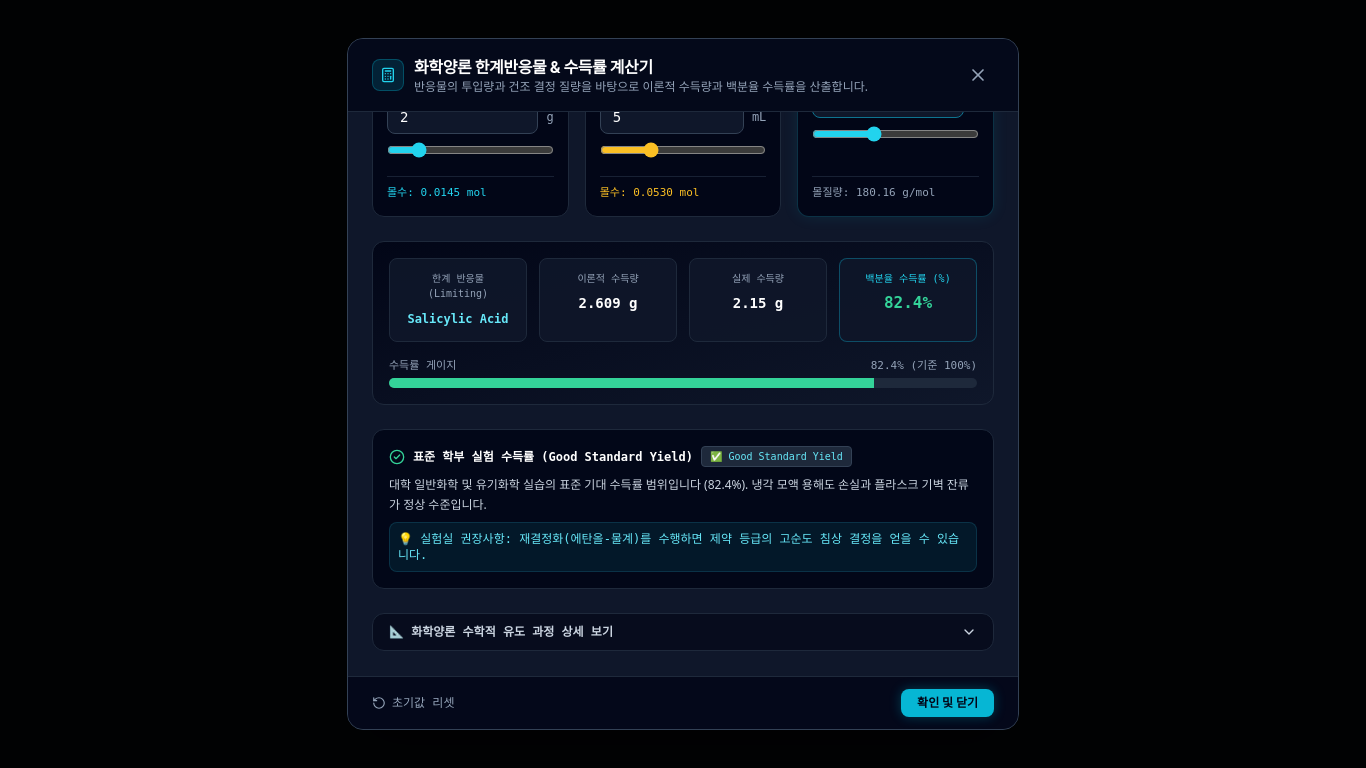
Test: Milestone 3: Educational Pedagogy & Stoichiometry Yield Calculator › 4. YieldCalculatorModal Component Interaction › toggles expandable KaTeX derivation panel
(page scrolled)
Check: the text "1. 살리실산(SA) 몰수 산출" is not shown
Click the button with test id "toggle-derivation-btn". click: (501, 632)
box: x1=373 y1=614 x2=993 y2=650
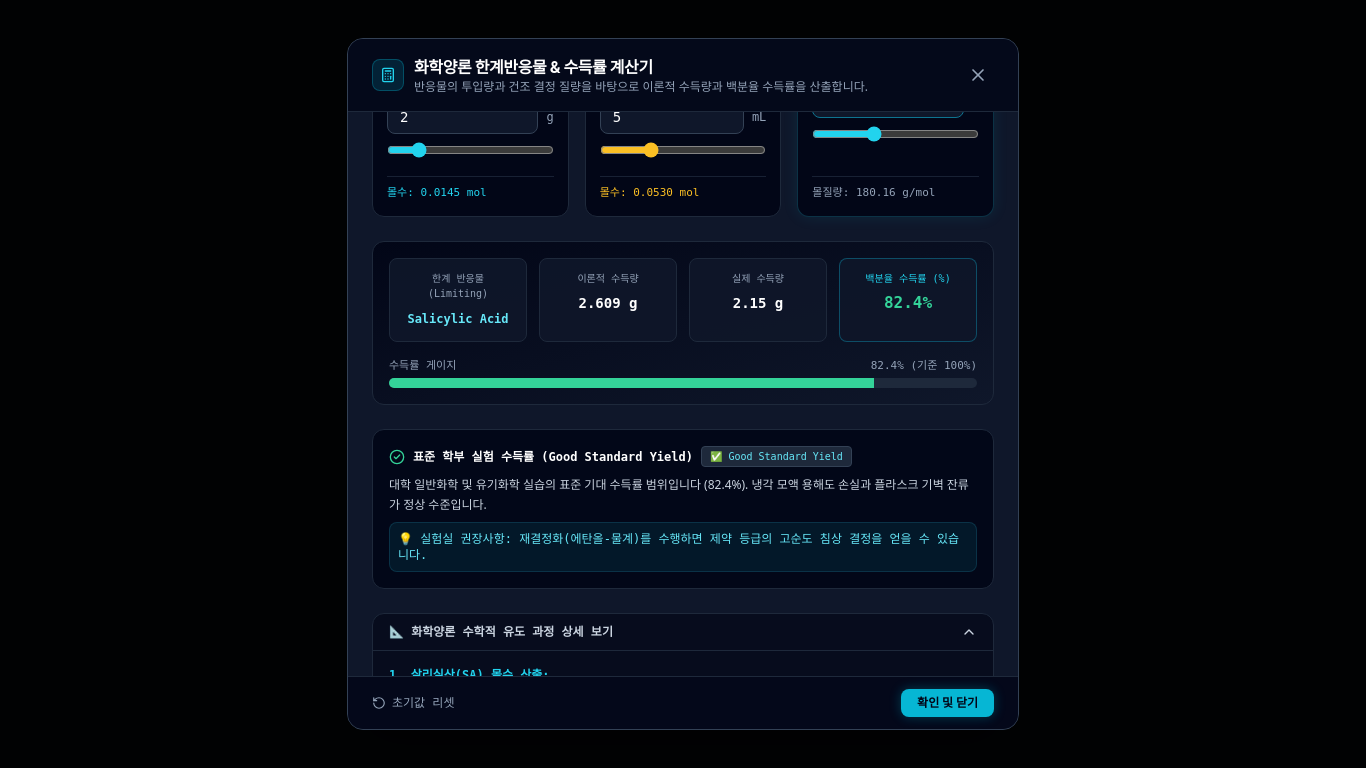
Click the button with test id "toggle-derivation-btn". click: (501, 632)
box: x1=373 y1=614 x2=993 y2=650
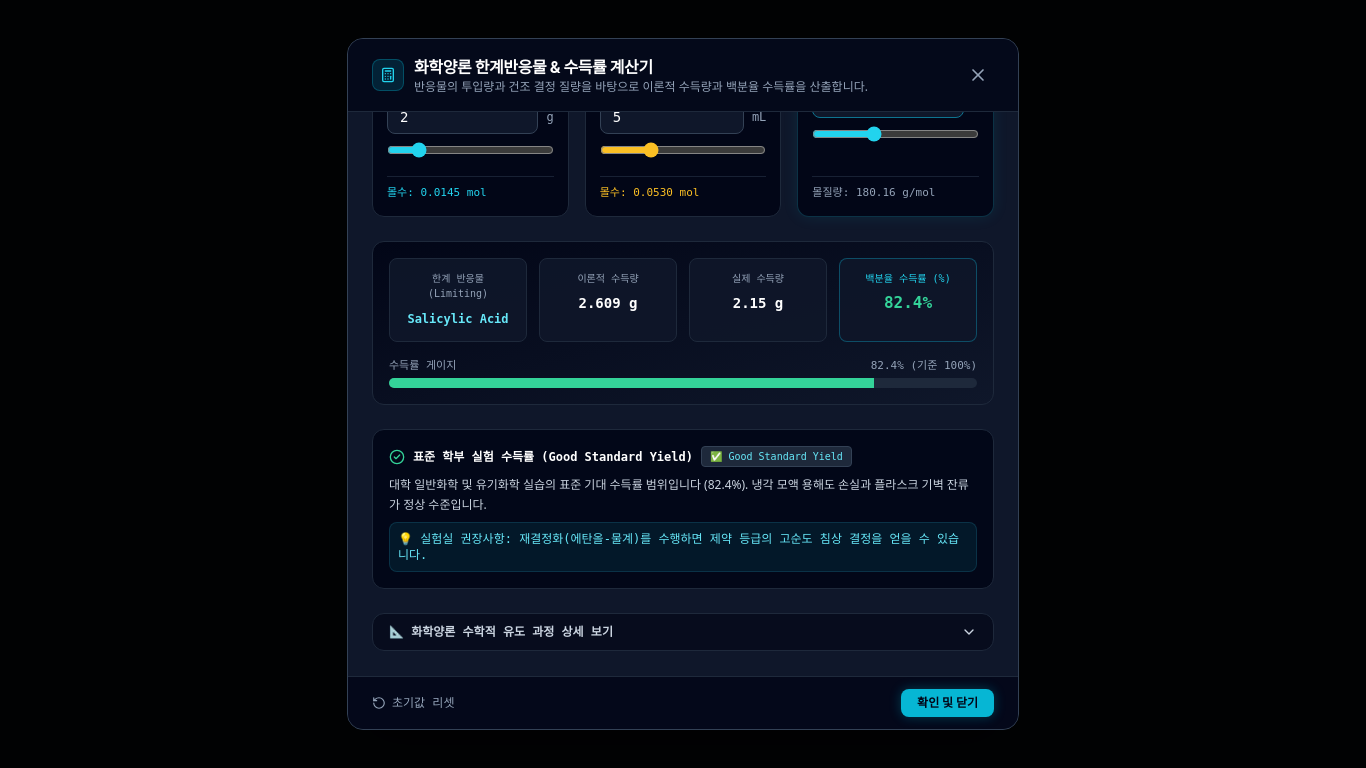
Check: the text "1. 살리실산(SA) 몰수 산출" is gone
